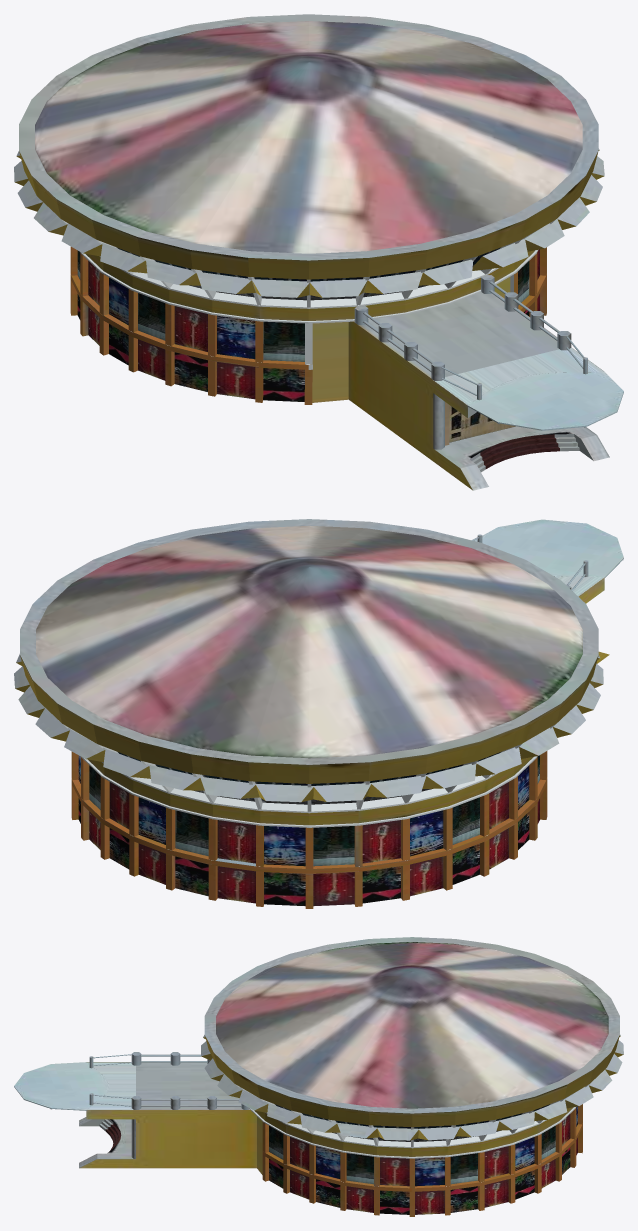
3 renders of one model, top to bottom at view 1: azimuth 30°, elevation 25°; view 2: azimuth 150°, elevation 25°; view 3: azimuth 270°, elevation 25°, orthographic. The views are drawn at different scales.
Visible parts, largest first — view 1: HN685___Rap_xiec_TW; view 2: HN685___Rap_xiec_TW; view 3: HN685___Rap_xiec_TW.
Boxes of the visible parts, x1,y1,x2,y2 form: HN685___Rap_xiec_TW: (14,14,623,490); HN685___Rap_xiec_TW: (14,519,623,908); HN685___Rap_xiec_TW: (14,937,623,1216).
Size of the model in its own units: 44.18 by 19.91 by 63.65.
1 material, 1 textured.
